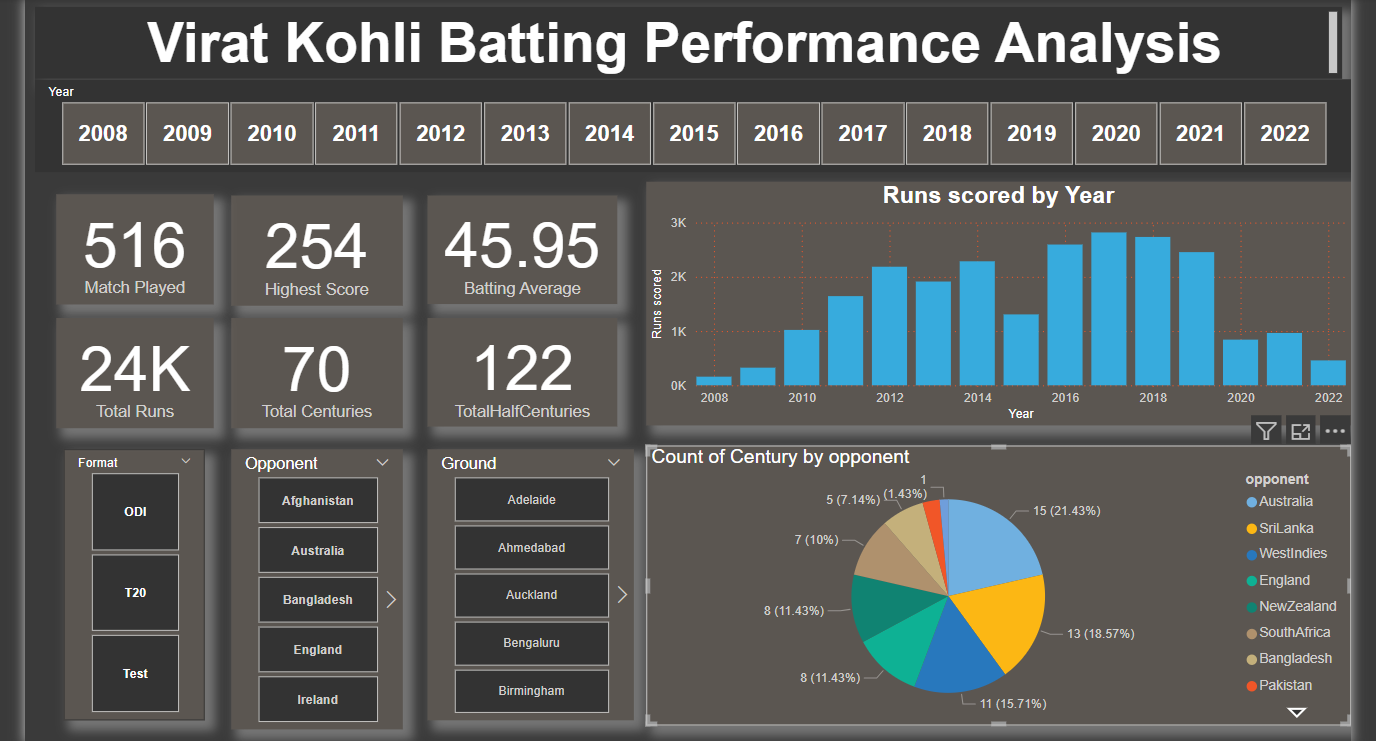

This screenshot's page, from the dashboard's own definition file:
{"tool":"powerbi","page":{"name":"Page 2","canvas":[1280,720],"ordinal":1},"visuals":[{"type":"textbox","box":[9.7,8.4,1261.9,70],"z":0},{"type":"slicer","fields":{"Values":["Virat.Year"]},"box":[9.7,78.4,1270.4,89.3],"z":1000},{"type":"card","fields":{"Values":["Virat.runs"]},"box":[199.1,190.6,165.3,106.2],"z":2000},{"type":"card","fields":{"Values":["Virat.match"]},"box":[30.2,189.4,152,106.2],"z":3000},{"type":"card","fields":{"Values":["Virat.Total Centuries"]},"box":[199.1,308.8,165.3,106.2],"z":4000},{"type":"card","fields":{"Values":["Virat.runs"]},"box":[388.5,190.6,183.4,105],"z":5000},{"type":"slicer","fields":{"Values":["Virat.match"]},"box":[37.4,435.5,136.3,261.8],"z":6000},{"type":"slicer","fields":{"Values":["Virat.ground"]},"box":[388.5,435.5,199.1,261.8],"z":7000},{"type":"slicer","fields":{"Values":["Virat.opponent"]},"box":[199.1,435.5,165.3,270.2],"z":8000},{"type":"clusteredColumnChart","fields":{"Y":["Virat.runs"],"Category":["Virat.Year"]},"box":[599.6,177.3,680.4,235.3],"z":9000},{"type":"pieChart","fields":{"Category":["Virat.opponent"],"Y":["Virat.Century"]},"box":[599.6,431.9,680.4,270.2],"z":10000},{"type":"card","fields":{"Values":["Virat.runs"]},"box":[30.2,308.8,152,106.2],"z":11000},{"type":"card","fields":{"Values":["Virat.TotalHalfCenturies"]},"box":[388.5,308.8,183.4,105],"z":11001}]}

Visuals, with their boxes on the page's 1280x720 design canvas (x1, y1, x2, y2). These are canvas units, not pixel positions in the 1376x741 screenshot, which may show the page scaled, cropped or inside an application window:
textbox: [10, 8, 1272, 78]
slicer - Virat.Year: [10, 78, 1280, 168]
card - Virat.runs: [199, 191, 364, 297]
card - Virat.match: [30, 189, 182, 296]
card - Virat.Total Centuries: [199, 309, 364, 415]
card - Virat.runs: [388, 191, 572, 296]
slicer - Virat.match: [37, 436, 174, 697]
slicer - Virat.ground: [388, 436, 588, 697]
slicer - Virat.opponent: [199, 436, 364, 706]
clusteredColumnChart - Virat.runs x Virat.Year: [600, 177, 1280, 413]
pieChart - Virat.opponent x Virat.Century: [600, 432, 1280, 702]
card - Virat.runs: [30, 309, 182, 415]
card - Virat.TotalHalfCenturies: [388, 309, 572, 414]
